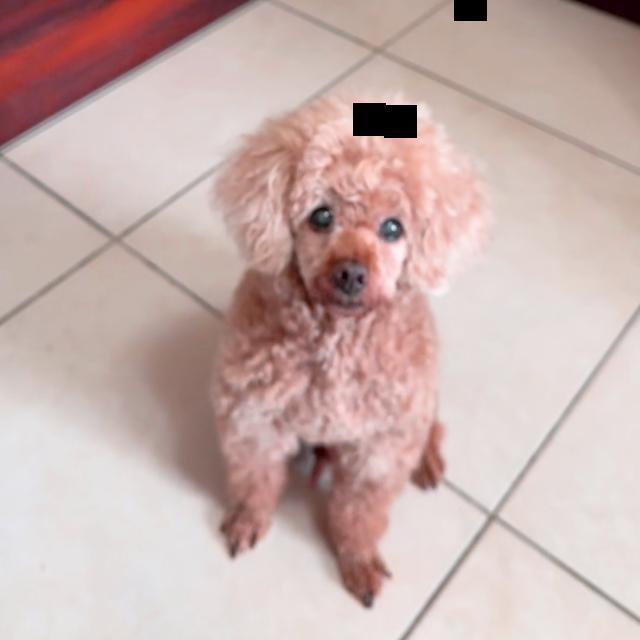adult_dog: (200, 81, 495, 611)
